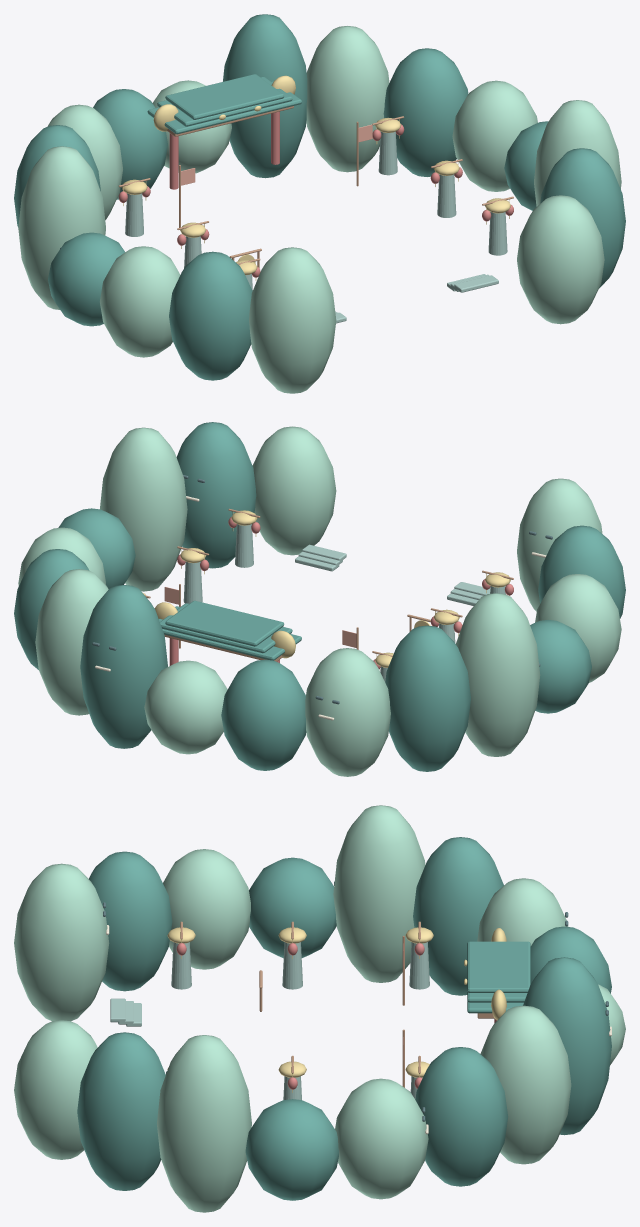
Rendered from hi3d-hi3d-journey-mountain-CYn7FABz.glb.
The picture shows the model from 3 angles, top to bottom: view 1: azimuth 30°, elevation 25°; view 2: azimuth 150°, elevation 25°; view 3: azimuth 270°, elevation 25°; orthographic projection. The views are drawn at different scales.
Parts seen in each view (by area): view 1: ENV_MAT_mint, ENV_MAT_jade, ENV_MAT_stone, ENV_MAT_gold, ENV_MAT_red, ENV_MAT_wood; view 2: ENV_MAT_mint, ENV_MAT_jade, ENV_MAT_stone, ENV_MAT_gold, ENV_MAT_wood, ENV_MAT_red; view 3: ENV_MAT_mint, ENV_MAT_jade, ENV_MAT_stone, ENV_MAT_gold, ENV_MAT_wood.
Boxes of the visible parts, <box> form: ENV_MAT_mint: <box>18,26,621,393</box>; ENV_MAT_jade: <box>14,14,625,380</box>; ENV_MAT_stone: <box>125,131,507,323</box>; ENV_MAT_gold: <box>121,75,510,280</box>; ENV_MAT_red: <box>118,111,513,277</box>; ENV_MAT_wood: <box>118,106,513,268</box>; ENV_MAT_mint: <box>18,426,621,776</box>; ENV_MAT_jade: <box>14,422,625,771</box>; ENV_MAT_stone: <box>183,524,505,681</box>; ENV_MAT_gold: <box>142,510,510,667</box>; ENV_MAT_wood: <box>144,508,513,661</box>; ENV_MAT_red: <box>169,516,513,669</box>; ENV_MAT_mint: <box>14,805,625,1212</box>; ENV_MAT_jade: <box>77,837,611,1200</box>; ENV_MAT_stone: <box>110,942,429,1099</box>; ENV_MAT_gold: <box>167,927,506,1092</box>; ENV_MAT_wood: <box>180,921,494,1087</box>.
Size of the model in its own units: 42 by 12.22 by 38.56.
